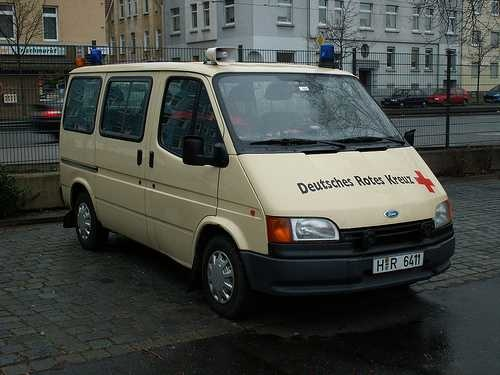Ambulance: (59, 47, 463, 307)
